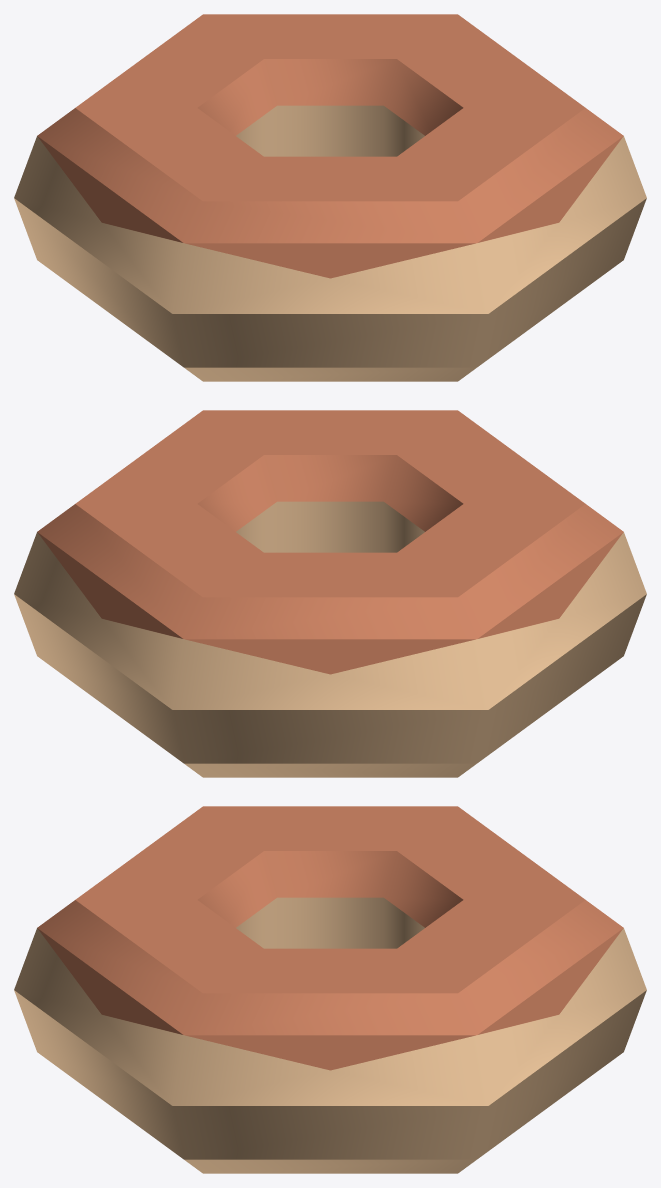
Rendered from donutChocolate.GLB.
3 views of the same model, one above another, from view 1: azimuth 30°, elevation 25°; view 2: azimuth 150°, elevation 25°; view 3: azimuth 270°, elevation 25° (orthographic).
Visible parts, largest first — view 1: donutChocolate; view 2: donutChocolate; view 3: donutChocolate.
Part boxes in pixels (x1,y1,x2,y2): donutChocolate: (14, 14, 646, 381); donutChocolate: (14, 410, 646, 777); donutChocolate: (14, 806, 646, 1173).
Bounding box in the file's own units: 0.2451 × 0.0889 × 0.283.
